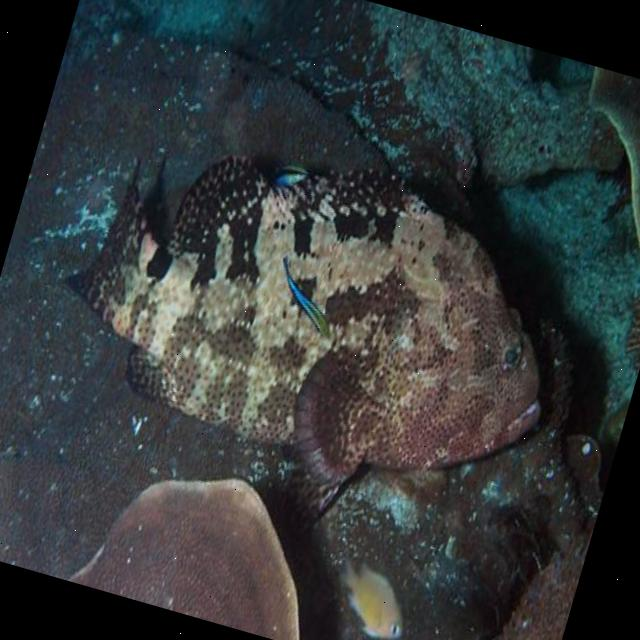ikan: (19, 88, 596, 574)
